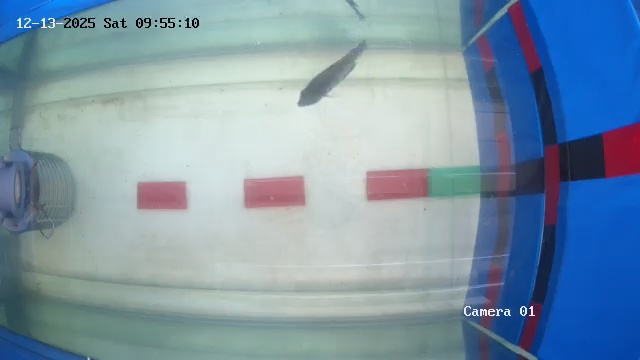fish: (288, 38, 358, 119)
